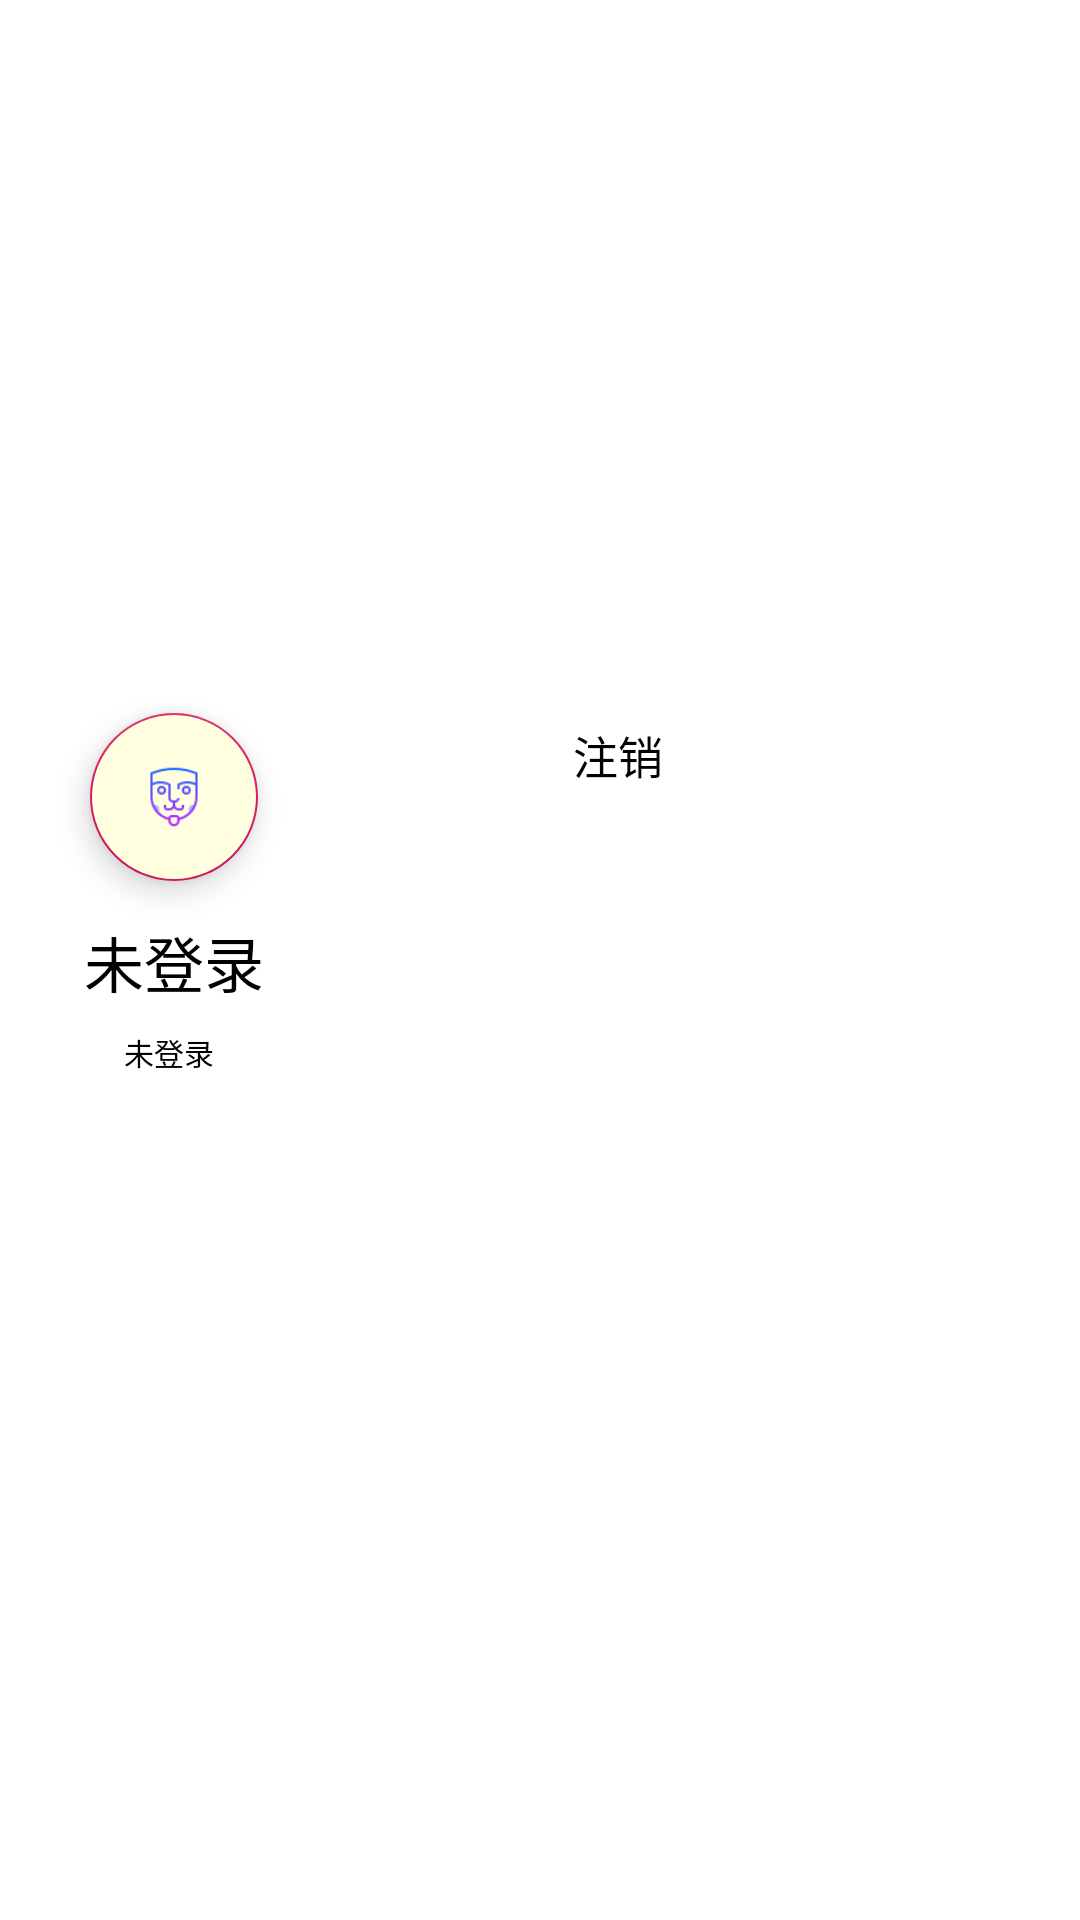

Screen size 1080×1920. Icon name, then its box in pixels as [x1, y1, x2, y2]:
person: [90, 713, 258, 881]
